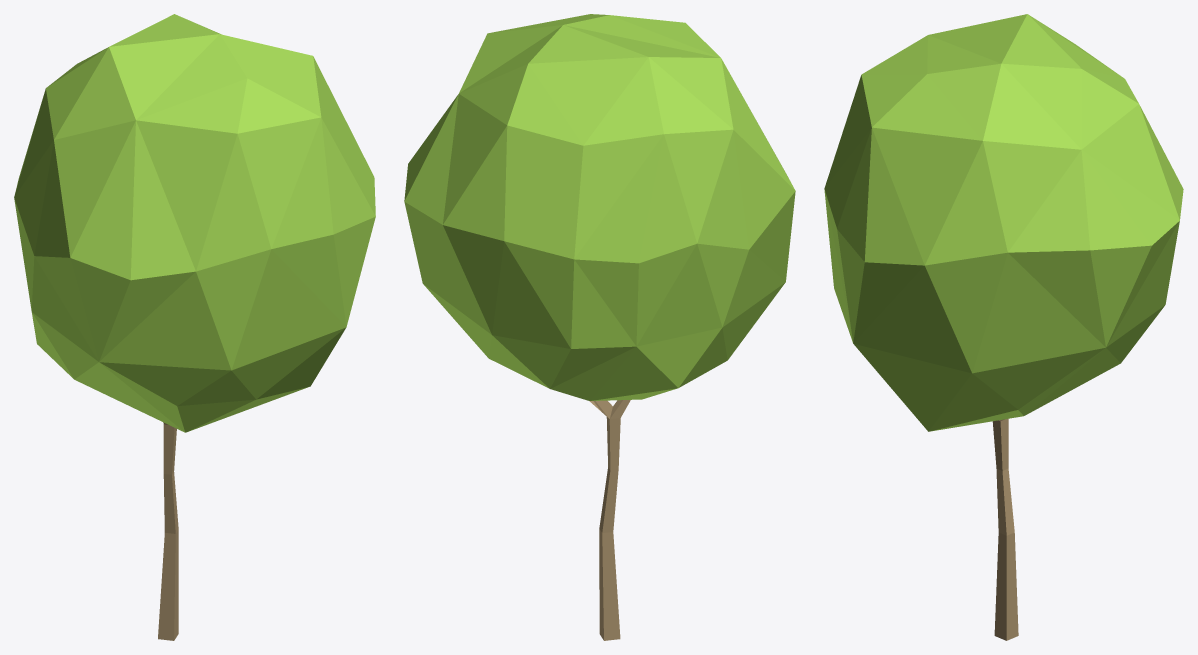
The model's file is Apple_Tree_s_01_LOD.fbx.
The picture shows the model from 3 angles, left to right: view 1: azimuth 30°, elevation 25°; view 2: azimuth 150°, elevation 25°; view 3: azimuth 270°, elevation 25°; orthographic projection.
Parts seen in each view (by area): view 1: Apple_Tree_s_01_LOD0; view 2: Apple_Tree_s_01_LOD0; view 3: Apple_Tree_s_01_LOD0.
Boxes of the visible parts, x1,y1,x2,y2 form: Apple_Tree_s_01_LOD0: (14,14,375,640); Apple_Tree_s_01_LOD0: (404,14,795,640); Apple_Tree_s_01_LOD0: (824,14,1183,640).
Size of what is drawn, in the model's own units: 178 by 329 by 179.
